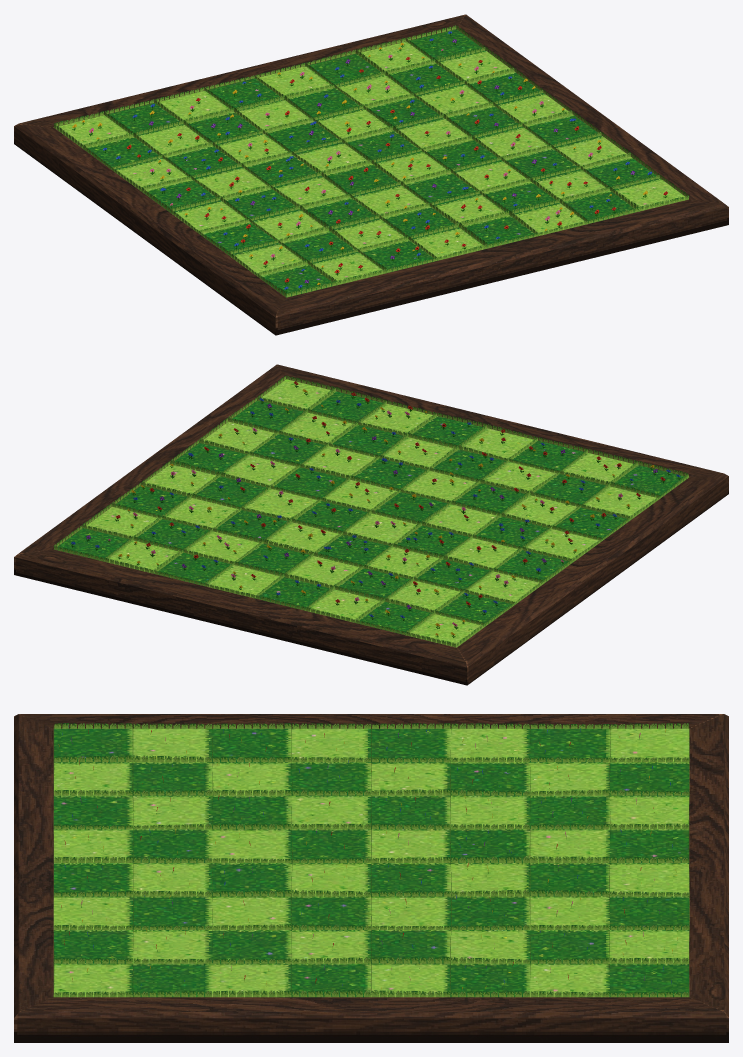
The model's file is checkers-board.glb.
The picture shows the model from 3 angles, top to bottom: view 1: azimuth 30°, elevation 25°; view 2: azimuth 150°, elevation 25°; view 3: azimuth 270°, elevation 25°; orthographic projection. The views are drawn at different scales.
Parts seen in each view (by area): view 1: Playing insert • 400 mm, Grass • 18 continuous boundary strips, Oak rail • South, Oak rail • West, Oak rail • East, Oak rail • North; view 2: Playing insert • 400 mm, Grass • 18 continuous boundary strips, Oak rail • North, Oak rail • West, Oak rail • East, Oak rail • South; view 3: Playing insert • 400 mm, Grass • 18 continuous boundary strips, Oak rail • East, Oak rail • South, Oak rail • North, Oak rail • West.
Boxes of the visible parts, left/top/right/bottom form: Playing insert • 400 mm: left=56, top=29, right=688, bottom=297; Grass • 18 continuous boundary strips: left=54, top=25, right=689, bottom=297; Oak rail • South: left=275, top=199, right=728, bottom=335; Oak rail • West: left=14, top=123, right=285, bottom=335; Oak rail • East: left=458, top=14, right=723, bottom=203; Oak rail • North: left=19, top=14, right=465, bottom=127; Playing insert • 400 mm: left=54, top=379, right=686, bottom=647; Grass • 18 continuous boundary strips: left=53, top=375, right=688, bottom=647; Oak rail • North: left=14, top=549, right=467, bottom=685; Oak rail • West: left=457, top=473, right=728, bottom=685; Oak rail • East: left=19, top=364, right=284, bottom=553; Oak rail • South: left=277, top=364, right=723, bottom=477; Playing insert • 400 mm: left=53, top=728, right=689, bottom=997; Grass • 18 continuous boundary strips: left=53, top=723, right=689, bottom=997; Oak rail • East: left=14, top=997, right=728, bottom=1042; Oak rail • South: left=14, top=714, right=53, bottom=1017; Oak rail • North: left=689, top=714, right=728, bottom=1017; Oak rail • West: left=19, top=714, right=723, bottom=728.
Size of the model in its own units: 0.45 by 0.0274 by 0.45.
5 materials, 4 textured.
